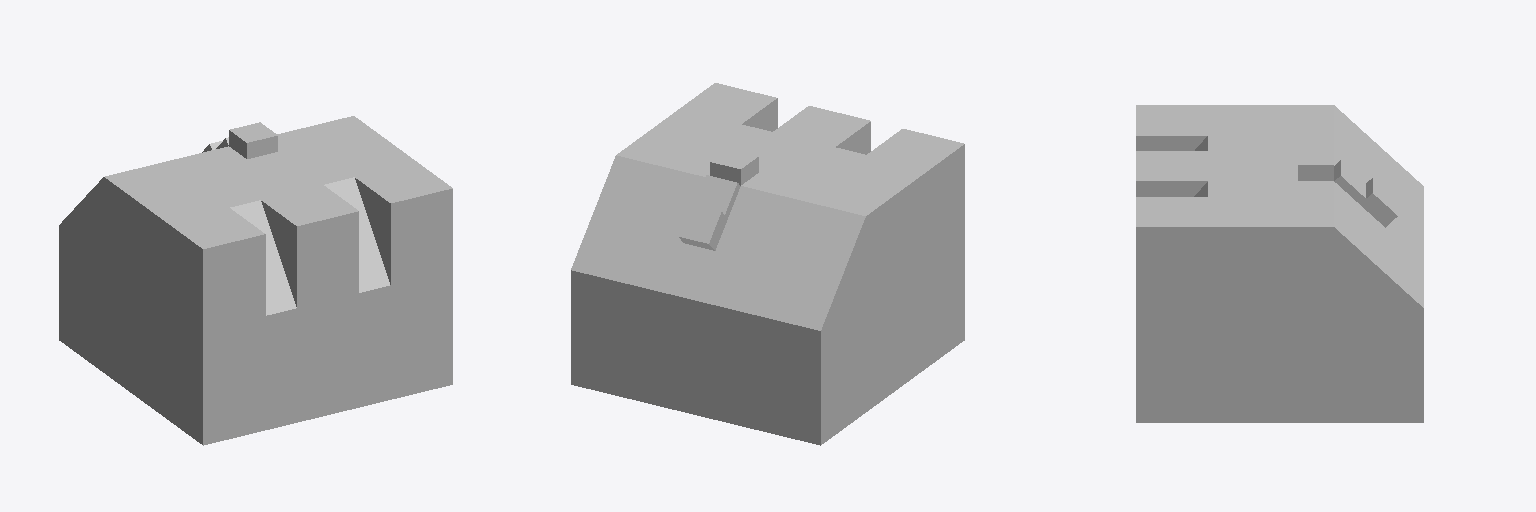
File: ruined_machine_buttons.obj
The picture shows the model from 3 angles: view 1: azimuth 30°, elevation 25°; view 2: azimuth 150°, elevation 25°; view 3: azimuth 270°, elevation 25°; orthographic projection.
Parts seen in each view (by area): view 1: RuinedMachine1, button1; view 2: RuinedMachine1, button3, button1, button2; view 3: RuinedMachine1, button1, button3, button2.
Boxes of the visible parts, x1,y1,x2,y2 form: RuinedMachine1: [59, 116, 452, 445]; button1: [229, 122, 277, 158]; RuinedMachine1: [571, 83, 964, 445]; button3: [678, 204, 727, 250]; button1: [710, 149, 758, 185]; button2: [695, 175, 740, 217]; RuinedMachine1: [1136, 105, 1423, 422]; button1: [1298, 150, 1333, 180]; button3: [1360, 178, 1397, 227]; button2: [1334, 160, 1365, 203].
Bounding box in the file's own units: 1 × 0.8125 × 1.